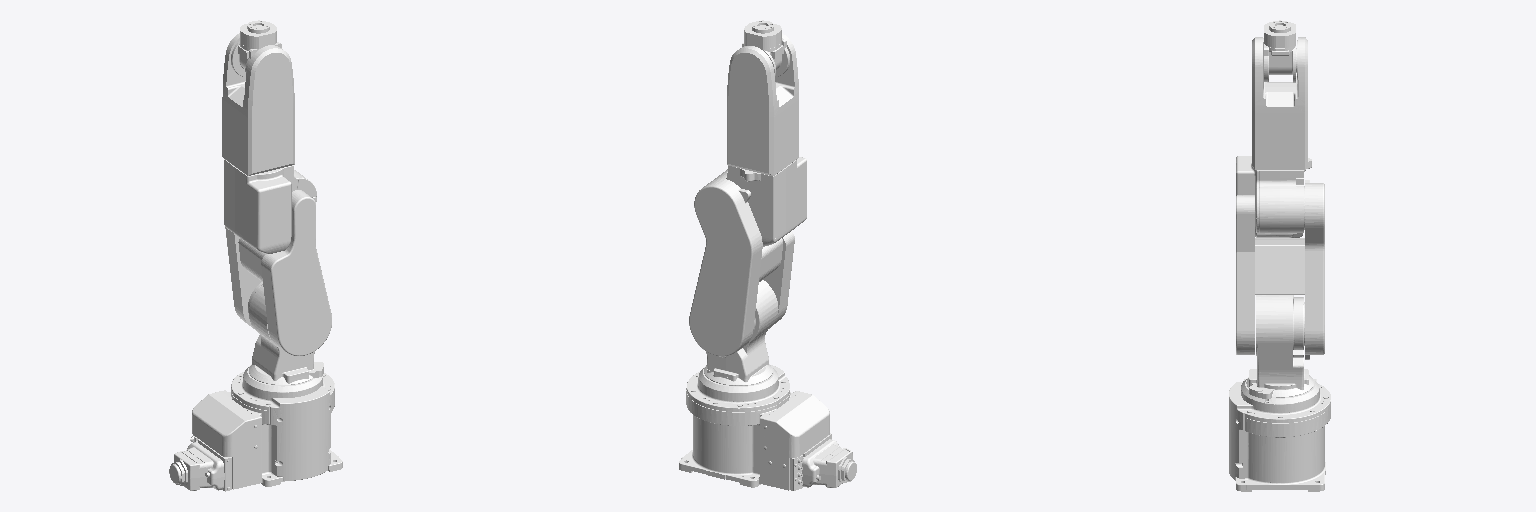
robot.urdf — rv2fr:
<?xml version="1.0" ?>
<robot name="rv2fr">
  <material name="white">
    <color rgba="1.0 1.0 1.0 1.0"/>
  </material>
  <link name="world"/>
  <link name="rv2fr_base">
    <visual>
      <material name="white"/>
      <origin rpy="0 0 0" xyz="0 0 0"/>
      <geometry>
        <mesh filename="package://melfa_description/meshes/rv2fr/base.STL"/>
      </geometry>
    </visual>
    <collision>
      <origin rpy="0 0 0" xyz="0 0 0"/>
      <geometry>
        <mesh filename="package://melfa_description/meshes/rv2fr/base.STL"/>
      </geometry>
    </collision>
  </link>
  <link name="rv2fr_shoulder">
    <visual>
      <material name="white"/>
      <origin rpy="0 0 0" xyz="0 0 0"/>
      <geometry>
        <mesh filename="package://melfa_description/meshes/rv2fr/shoulder.STL"/>
      </geometry>
    </visual>
    <collision>
      <origin rpy="0 0 0" xyz="0 0 0"/>
      <geometry>
        <mesh filename="package://melfa_description/meshes/rv2fr/shoulder.STL"/>
      </geometry>
    </collision>
  </link>
  <link name="rv2fr_upper_arm">
    <visual>
      <material name="white"/>
      <origin rpy="0 0 0" xyz="0 0 0"/>
      <geometry>
        <mesh filename="package://melfa_description/meshes/rv2fr/upper_arm.STL"/>
      </geometry>
    </visual>
    <collision>
      <origin rpy="0 0 0" xyz="0 0 0"/>
      <geometry>
        <mesh filename="package://melfa_description/meshes/rv2fr/upper_arm.STL"/>
      </geometry>
    </collision>
  </link>
  <link name="rv2fr_elbow">
    <visual>
      <material name="white"/>
      <origin rpy="0 0 0" xyz="0 0 0"/>
      <geometry>
        <mesh filename="package://melfa_description/meshes/rv2fr/elbow.STL"/>
      </geometry>
    </visual>
    <collision>
      <origin rpy="0 0 0" xyz="0 0 0"/>
      <geometry>
        <mesh filename="package://melfa_description/meshes/rv2fr/elbow.STL"/>
      </geometry>
    </collision>
  </link>
  <link name="rv2fr_forearm">
    <visual>
      <material name="white"/>
      <origin rpy="0 0 0" xyz="0 0 0"/>
      <geometry>
        <mesh filename="package://melfa_description/meshes/rv2fr/forearm.STL"/>
      </geometry>
    </visual>
    <collision>
      <origin rpy="0 0 0" xyz="0 0 0"/>
      <geometry>
        <mesh filename="package://melfa_description/meshes/rv2fr/forearm.STL"/>
      </geometry>
    </collision>
  </link>
  <link name="rv2fr_wrist">
    <visual>
      <material name="white"/>
      <origin rpy="0 0 0" xyz="0 0 0"/>
      <geometry>
        <mesh filename="package://melfa_description/meshes/rv2fr/wrist.STL"/>
      </geometry>
    </visual>
    <collision>
      <origin rpy="0 0 0" xyz="0 0 0"/>
      <geometry>
        <mesh filename="package://melfa_description/meshes/rv2fr/wrist.STL"/>
      </geometry>
    </collision>
  </link>
  <link name="rv2fr_hand_flange">
    <visual>
      <material name="white"/>
      <origin rpy="0 0 0" xyz="0 0 0"/>
      <geometry>
        <mesh filename="package://melfa_description/meshes/rv2fr/hand_flange.STL"/>
      </geometry>
    </visual>
    <collision>
      <origin rpy="0 0 0" xyz="0 0 0"/>
      <geometry>
        <mesh filename="package://melfa_description/meshes/rv2fr/hand_flange.STL"/>
      </geometry>
    </collision>
  </link>
  <link name="rv2fr_default_tcp"/>
  <joint name="rv2fr_world_to_base" type="fixed">
    <origin rpy="0 0 0" xyz="0.0 0.0 0.0"/>
    <parent link="world"/>
    <child link="rv2fr_base"/>
  </joint>
  <joint name="rv2fr_joint_1" type="revolute">
    <origin rpy="0 0 0" xyz="0.0 0.0 0.0"/>
    <parent link="rv2fr_base"/>
    <child link="rv2fr_shoulder"/>
    <axis xyz="0 0 1"/>
    <limit effort="1" lower="-4.1887902047863905" upper="4.1887902047863905" velocity="5.235987755982989"/>
  </joint>
  <joint name="rv2fr_joint_2" type="revolute">
    <origin rpy="0 0 0" xyz="0.0 0.0 0.295"/>
    <parent link="rv2fr_shoulder"/>
    <child link="rv2fr_upper_arm"/>
    <axis xyz="0 1 0"/>
    <limit effort="1" lower="-2.0943951023931953" upper="2.0943951023931953" velocity="2.6179938779914944"/>
  </joint>
  <joint name="rv2fr_joint_3" type="revolute">
    <origin rpy="0 0 0" xyz="0.0 0.0 0.23"/>
    <parent link="rv2fr_upper_arm"/>
    <child link="rv2fr_elbow"/>
    <axis xyz="0 1 0"/>
    <limit effort="1" lower="0.0" upper="2.792526803190927" velocity="5.235987755982989"/>
  </joint>
  <joint name="rv2fr_joint_4" type="revolute">
    <origin rpy="0 0 0" xyz="-0.05 0.0 0.0"/>
    <parent link="rv2fr_elbow"/>
    <child link="rv2fr_forearm"/>
    <axis xyz="0 0 1"/>
    <limit effort="1" lower="-3.490658503988659" upper="3.490658503988659" velocity="7.853981633974483"/>
  </joint>
  <joint name="rv2fr_joint_5" type="revolute">
    <origin rpy="0 0 0" xyz="0.0 0.0 0.27"/>
    <parent link="rv2fr_forearm"/>
    <child link="rv2fr_wrist"/>
    <axis xyz="0 1 0"/>
    <limit effort="1" lower="-2.0943951023931953" upper="2.0943951023931953" velocity="7.853981633974483"/>
  </joint>
  <joint name="rv2fr_joint_6" type="revolute">
    <origin rpy="0 0 0" xyz="0.0 0.0 0.07"/>
    <parent link="rv2fr_wrist"/>
    <child link="rv2fr_hand_flange"/>
    <axis xyz="0 0 1"/>
    <limit effort="1" lower="-6.283185307179586" upper="6.283185307179586" velocity="12.566370614359172"/>
  </joint>
  <joint name="rv2fr_hand_tcp" type="fixed">
    <origin rpy="0 0 0" xyz="0.0 0.0 0.0"/>
    <parent link="rv2fr_hand_flange"/>
    <child link="rv2fr_default_tcp"/>
  </joint>
</robot>

--- Render facts (derived) ---
The picture shows the robot from 3 angles, left to right: view 1: azimuth 30°, elevation 25°; view 2: azimuth 150°, elevation 25°; view 3: azimuth 270°, elevation 25°; orthographic projection.
Robot: rv2fr — 9 links, 8 joints (6 revolute, 2 fixed); root link world; default pose: every joint at zero.
Links seen in each view (by area): view 1: rv2fr_base, rv2fr_upper_arm, rv2fr_forearm, rv2fr_elbow, rv2fr_shoulder, rv2fr_wrist; view 2: rv2fr_base, rv2fr_upper_arm, rv2fr_forearm, rv2fr_elbow, rv2fr_shoulder, rv2fr_wrist; view 3: rv2fr_base, rv2fr_upper_arm, rv2fr_forearm, rv2fr_shoulder, rv2fr_elbow, rv2fr_wrist.
Boxes of the visible links, bbox=[...] form: rv2fr_base: bbox=[169, 364, 342, 491]; rv2fr_upper_arm: bbox=[225, 190, 331, 355]; rv2fr_forearm: bbox=[222, 33, 294, 175]; rv2fr_elbow: bbox=[224, 159, 316, 253]; rv2fr_shoulder: bbox=[248, 282, 323, 384]; rv2fr_wrist: bbox=[231, 22, 281, 76]; rv2fr_base: bbox=[679, 364, 856, 490]; rv2fr_upper_arm: bbox=[689, 179, 794, 357]; rv2fr_forearm: bbox=[727, 33, 798, 175]; rv2fr_elbow: bbox=[714, 157, 806, 246]; rv2fr_shoulder: bbox=[704, 280, 778, 385]; rv2fr_wrist: bbox=[742, 22, 789, 76]; rv2fr_base: bbox=[1229, 377, 1330, 491]; rv2fr_upper_arm: bbox=[1236, 180, 1324, 359]; rv2fr_forearm: bbox=[1252, 37, 1307, 169]; rv2fr_shoulder: bbox=[1246, 295, 1313, 398]; rv2fr_elbow: bbox=[1236, 156, 1311, 237]; rv2fr_wrist: bbox=[1264, 22, 1295, 82].
Bounding box of the posed robot: 0.3203 × 0.185 × 0.865 m (x, y, z).
Meshes: 7 distinct files referenced, 7 mesh visuals loaded (7 binary STL).